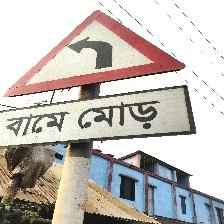Left-Turn: (2, 8, 193, 147)
